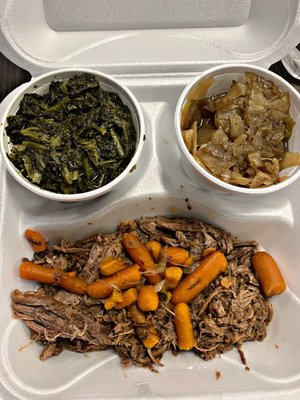sushi: (0, 69, 147, 204), (174, 65, 300, 197)
